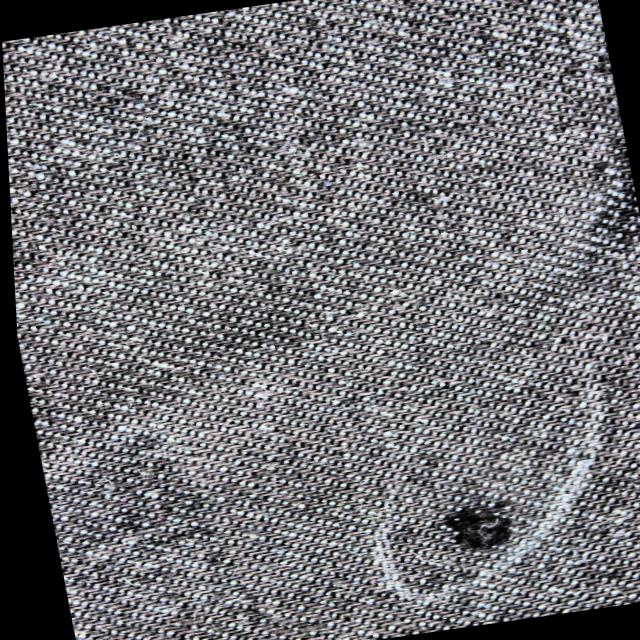Hole: (404, 478, 544, 580)
